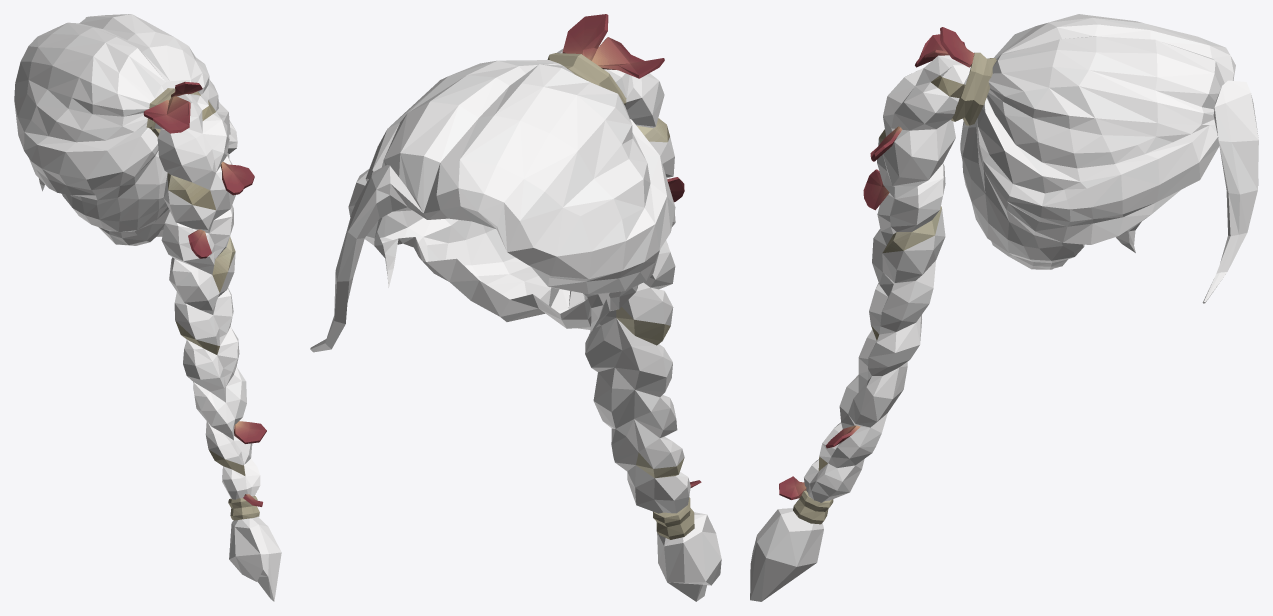
The model's file is CharSkyKid_Hair_RoseBraid.glb.
3 views of the same model, side by side, from view 1: azimuth 30°, elevation 25°; view 2: azimuth 150°, elevation 25°; view 3: azimuth 270°, elevation 25° (orthographic). The views are drawn at different scales.
Visible parts, largest first — view 1: CharSkyKid_Hair_RoseBraid; view 2: CharSkyKid_Hair_RoseBraid; view 3: CharSkyKid_Hair_RoseBraid.
Boxes of the visible parts, x1,y1,x2,y2 form: CharSkyKid_Hair_RoseBraid: (14, 14, 281, 601); CharSkyKid_Hair_RoseBraid: (310, 14, 721, 601); CharSkyKid_Hair_RoseBraid: (750, 14, 1258, 601).
Size of the model in its own units: 2.67 by 6.28 by 5.1.
Materials: 1 (1 with a texture image).
